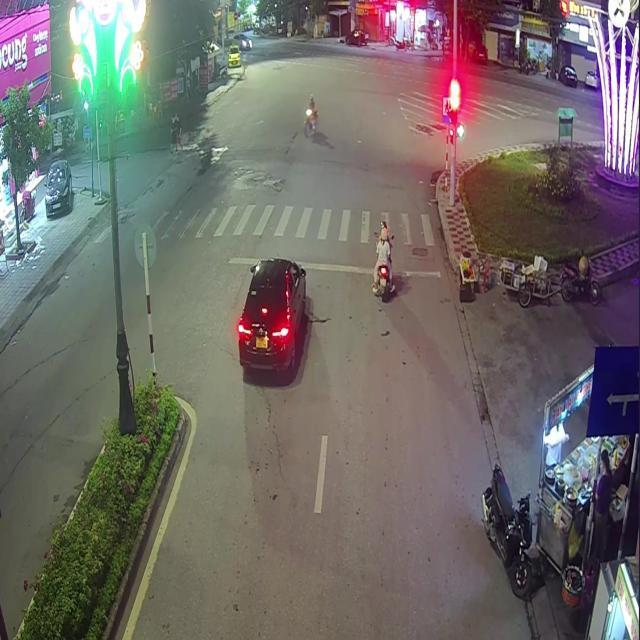car: (235, 261, 304, 379)
motobike: (371, 219, 393, 298)
red_light: (449, 77, 460, 123)
stop_line: (228, 256, 440, 277)
